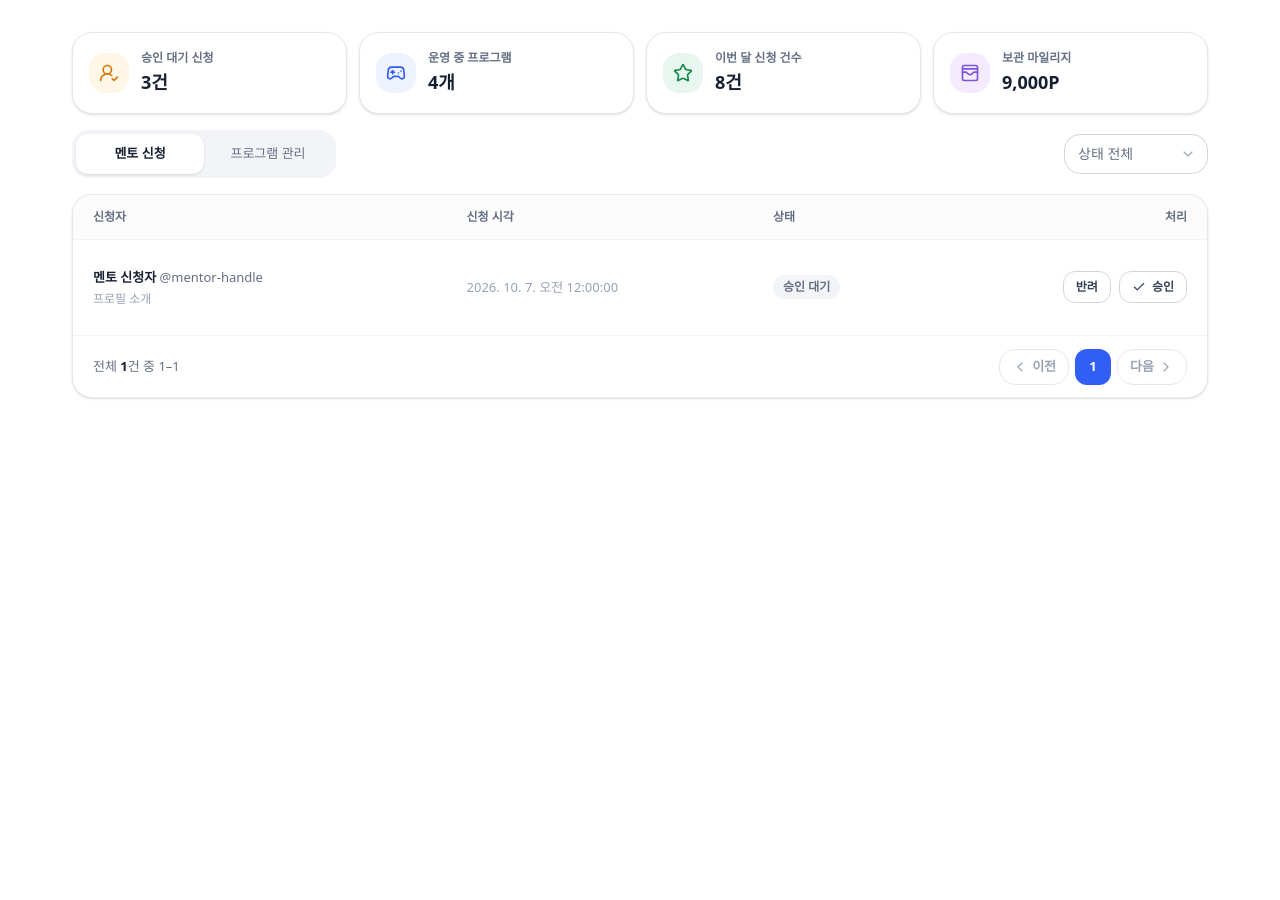
Test case: AdminMentoringManagement › approves the user UUID and refetches list and summary after success
Click the button "승인" at (1153, 287), box [1119,271,1187,303]
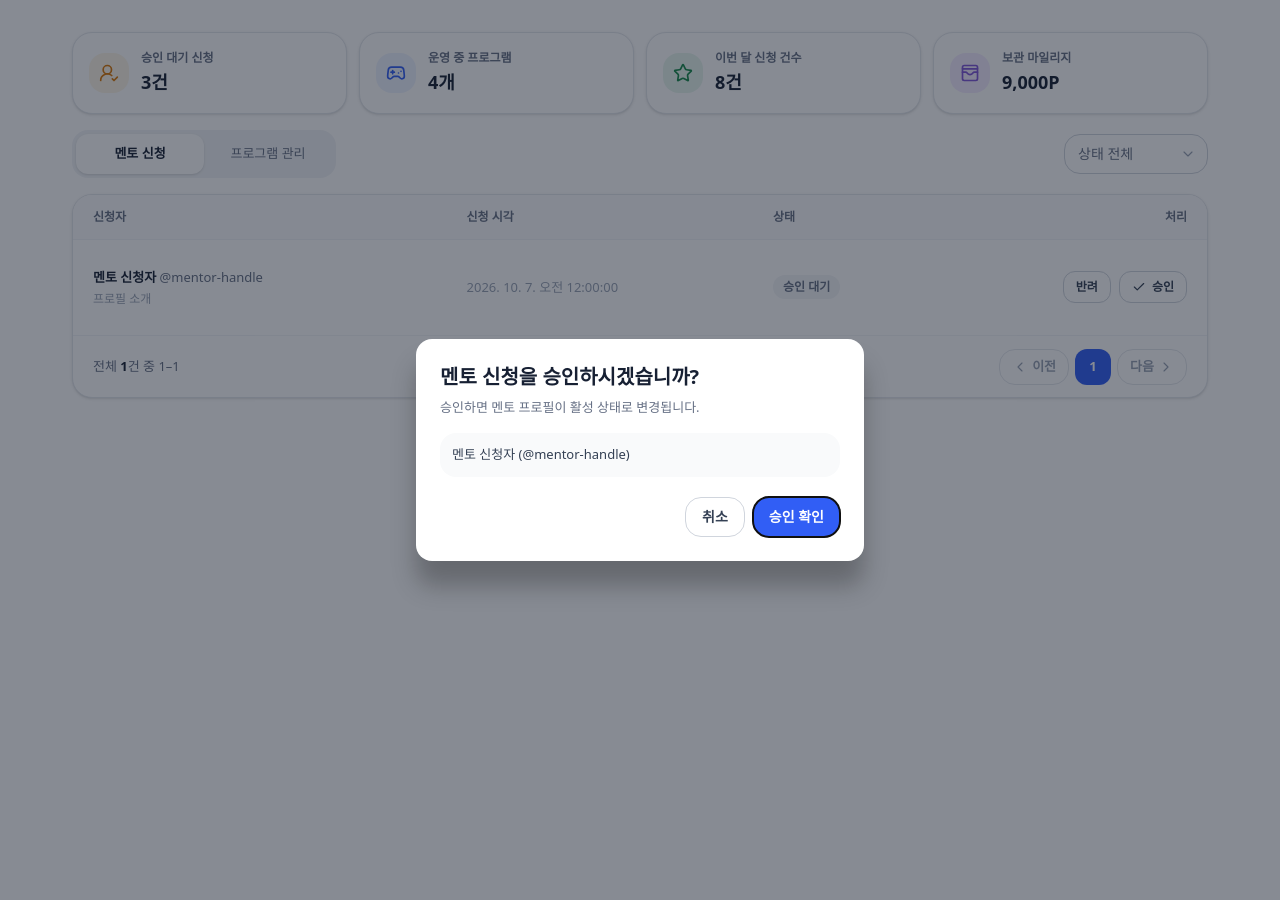
Expected: the dialog shows "멘토 프로필이 활성 상태", [440,398,700,416]
Click the button "승인 확인" at (796, 517), box [753,497,840,537]
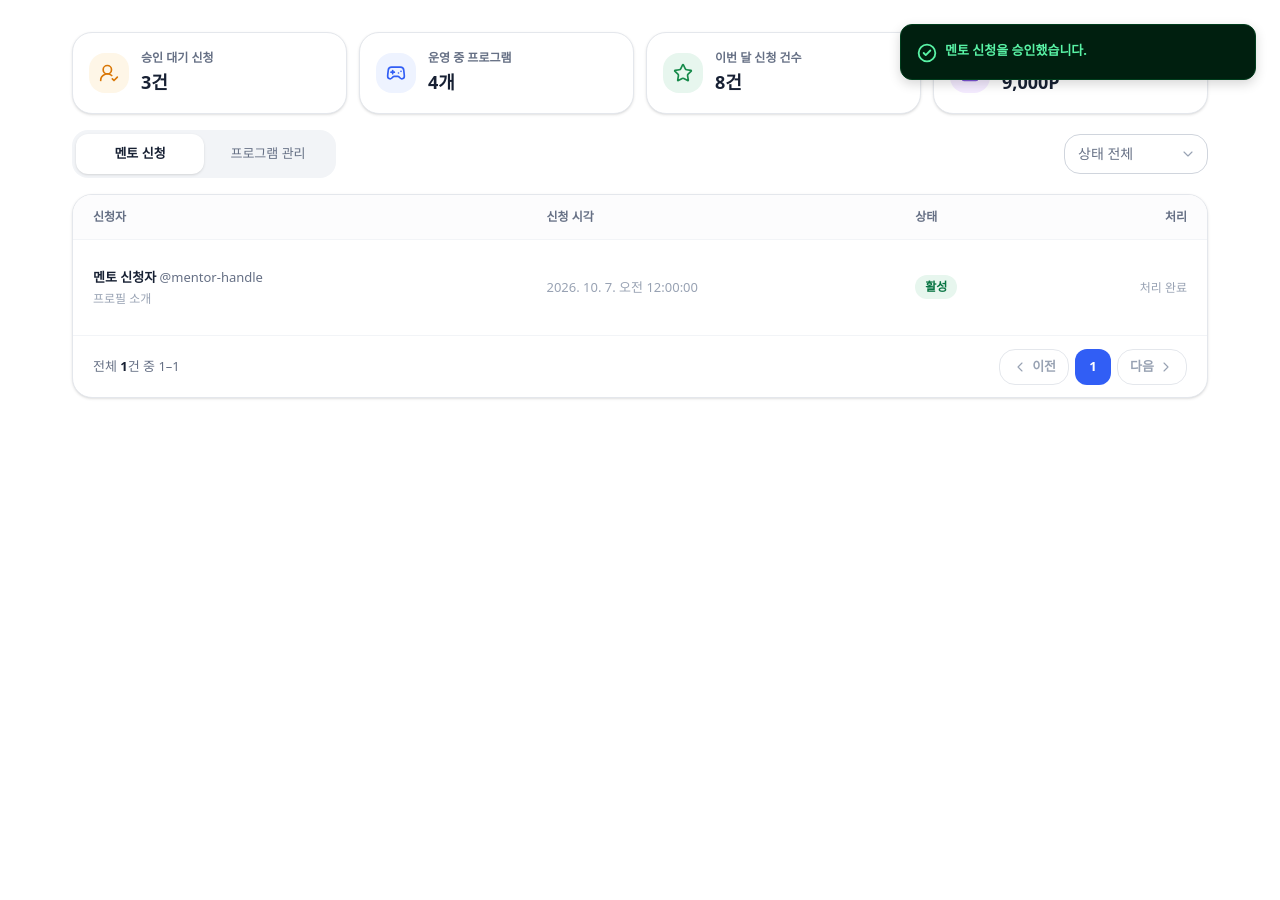
Expected: the text "활성" is shown, [915,275,957,299]
Expected: the dialog is gone
